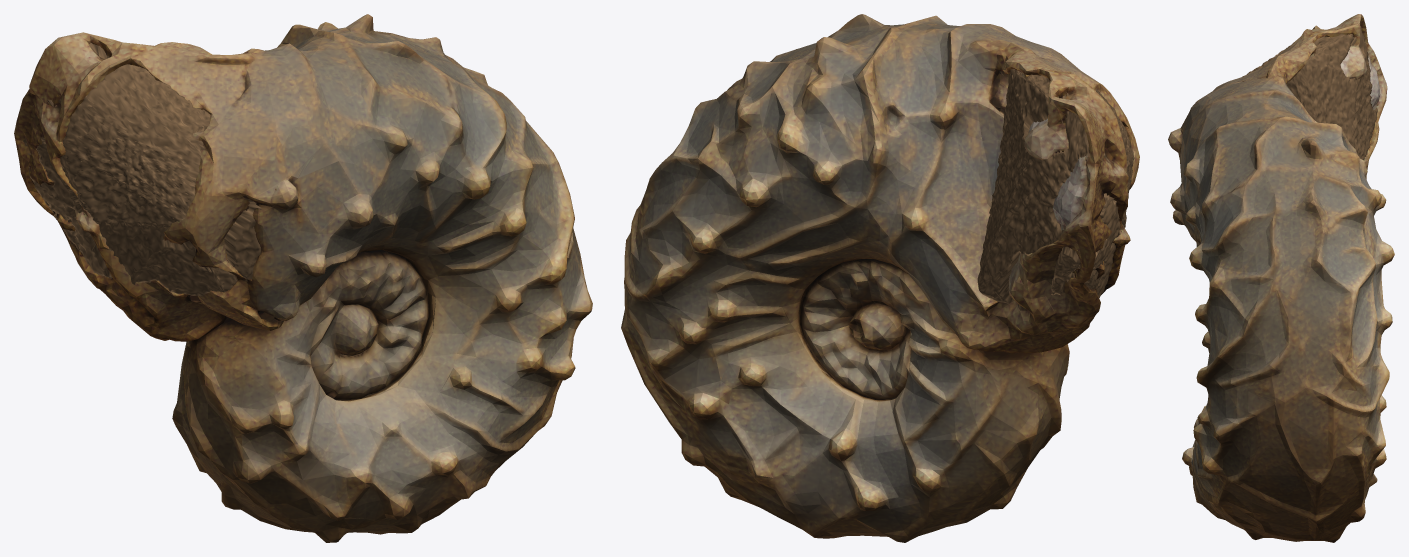
3 renders of one model, left to right at view 1: azimuth 30°, elevation 25°; view 2: azimuth 150°, elevation 25°; view 3: azimuth 270°, elevation 25°, orthographic. The views are drawn at different scales.
Visible parts, largest first — view 1: world, terminal_mineral_core; view 2: world, terminal_mineral_core; view 3: world, terminal_mineral_core.
Boxes of the visible parts, left/top/right/bottom form: world: left=14, top=14, right=592, bottom=542; terminal_mineral_core: left=23, top=42, right=276, bottom=296; world: left=621, top=14, right=1139, bottom=542; terminal_mineral_core: left=977, top=69, right=1134, bottom=303; world: left=1168, top=14, right=1394, bottom=542; terminal_mineral_core: left=1242, top=25, right=1378, bottom=160.
Size of the model in its own units: 0.1402 by 0.14 by 0.0697.
2 materials, 1 textured.
